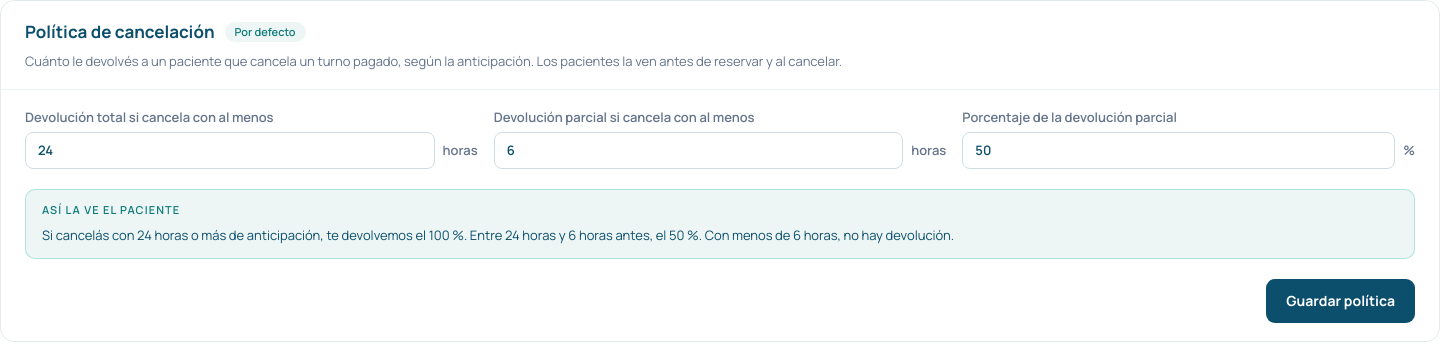
CancellationPolicyForm › guarda solo los tres campos y avisa que se guardó
The width and height of the screenshot is (1440, 359).
Replace the text in the number field labelled "Devolución total si cancela con al menos horas" with "48" at [230, 151], box [25,132,434,169]
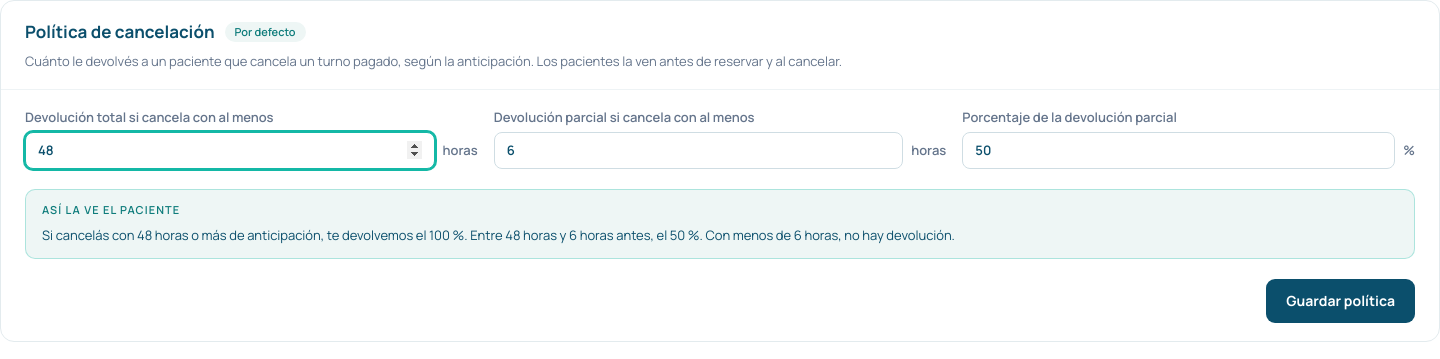
Replace the text in the number field labelled "Porcentaje de la devolución parcial %" with "30" at [1179, 151], box [962,132,1395,169]
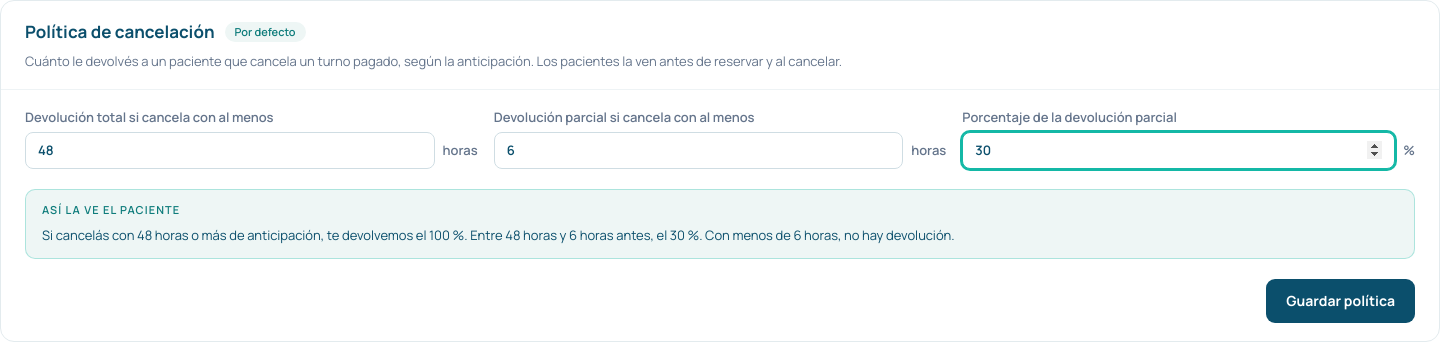
Click the button "Guardar política" at [1341, 301], box [1266,279,1415,323]
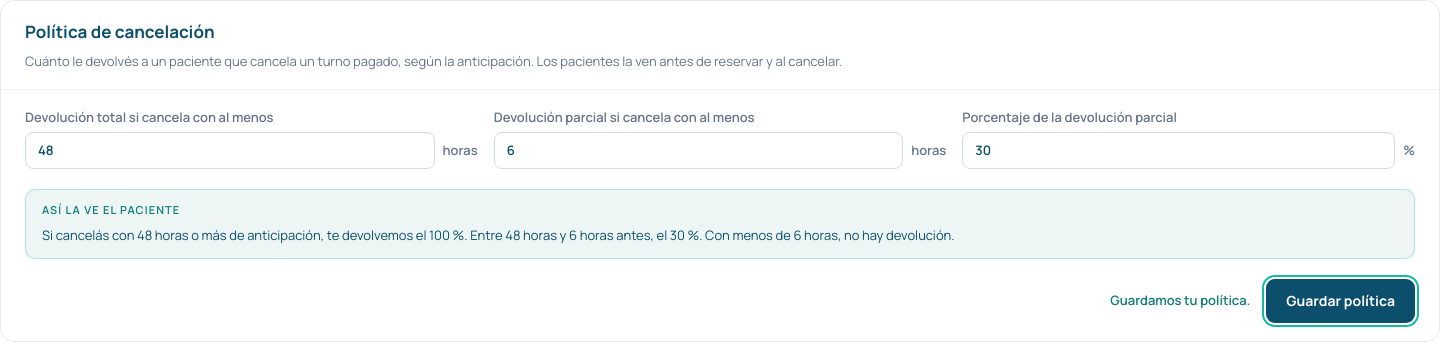
Now the message reads "Guardamos tu política.", box [1110,291,1250,309]
Now the text "Por defecto" is gone
